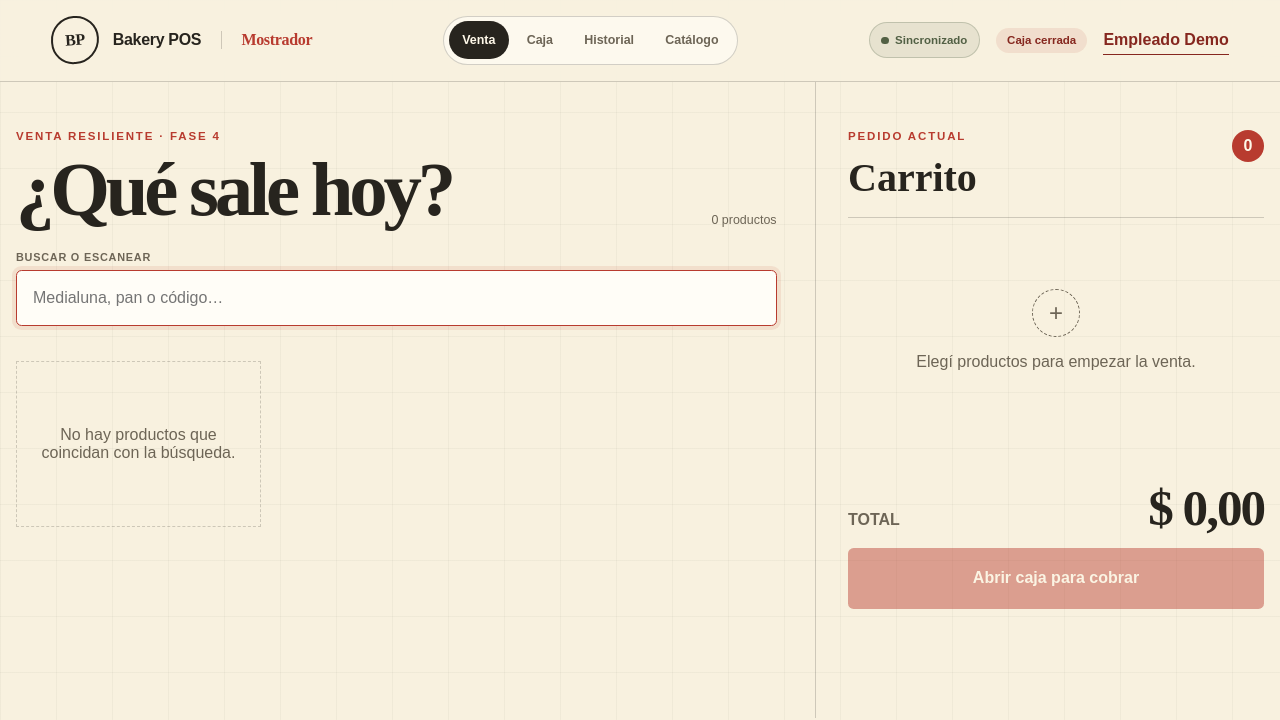
Scenario: App › keeps catalog read-only for an employee
Click the button "Catálogo" at (692, 40), box [652, 22, 732, 59]
(page scrolled)
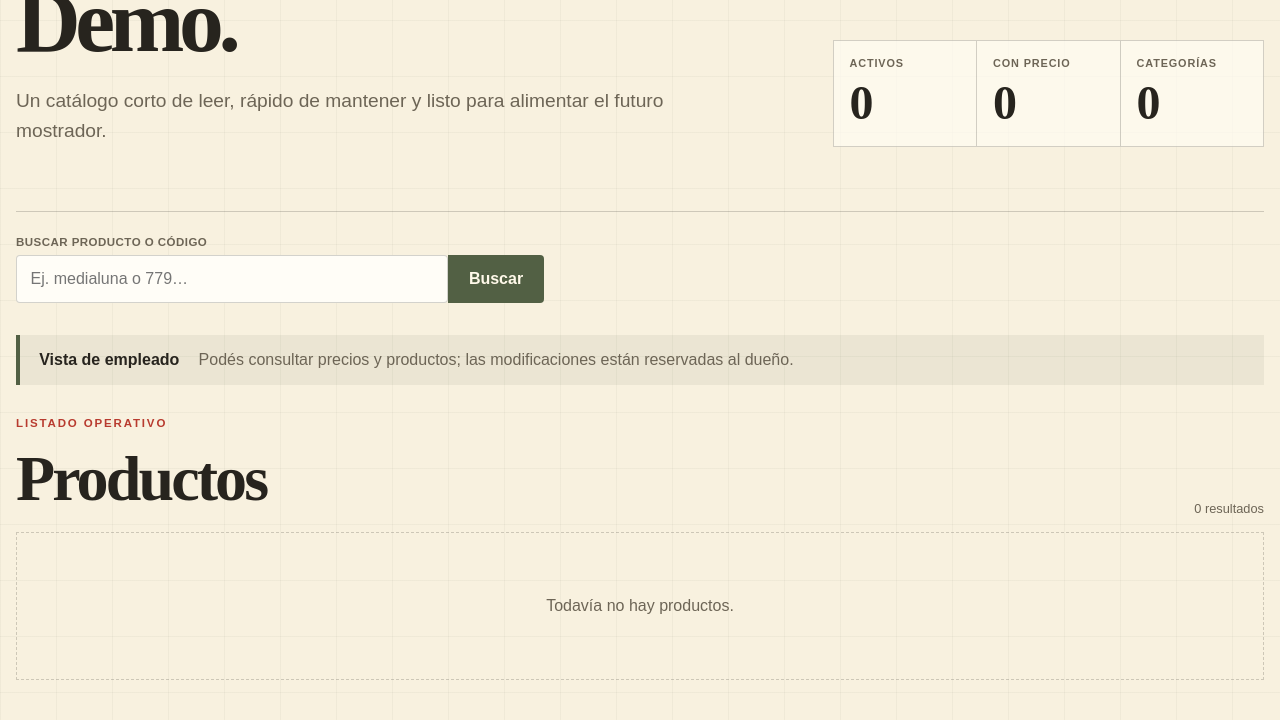
Check: the text "Vista de empleado" is shown, box [39, 351, 179, 369]
